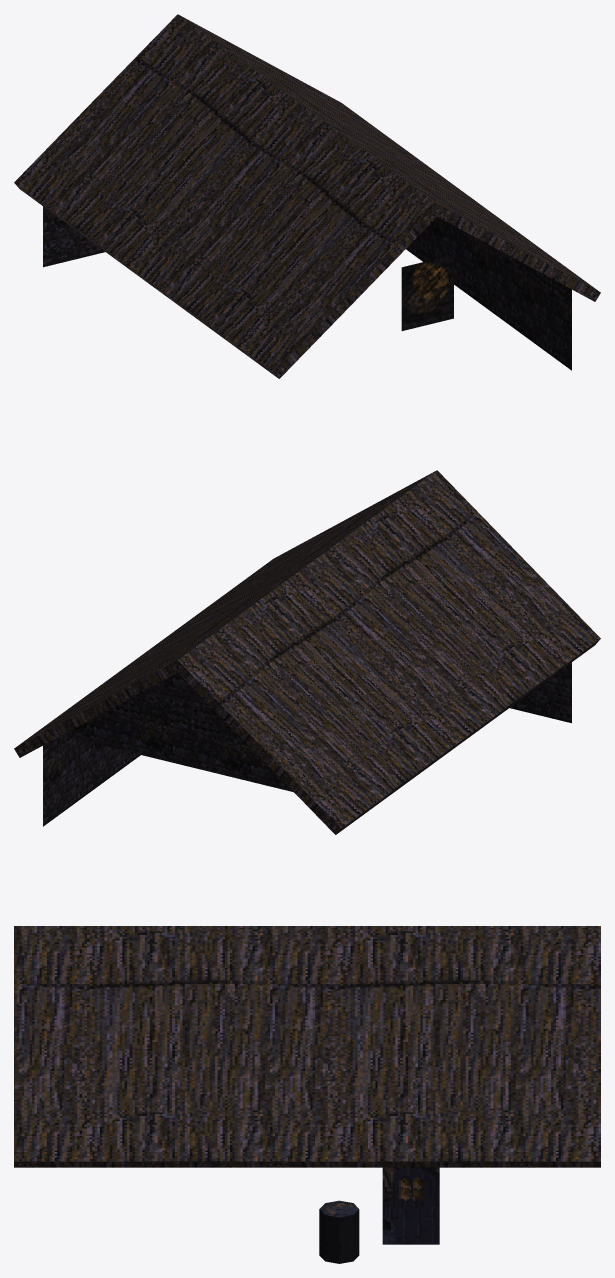
The picture shows the model from 3 angles, top to bottom: view 1: azimuth 30°, elevation 25°; view 2: azimuth 150°, elevation 25°; view 3: azimuth 270°, elevation 25°; orthographic projection. The views are drawn at different scales.
Parts seen in each view (by area): view 1: b_70_66; view 2: b_70_66; view 3: b_70_66.
Boxes of the visible parts, x1=… form: b_70_66: x1=14, y1=14, x2=600, y2=378; b_70_66: x1=14, y1=470, x2=600, y2=834; b_70_66: x1=14, y1=926, x2=600, y2=1263.
Bounding box in the file's own units: 7.92 × 4.6 × 10.3.
6 materials, 6 textured.
